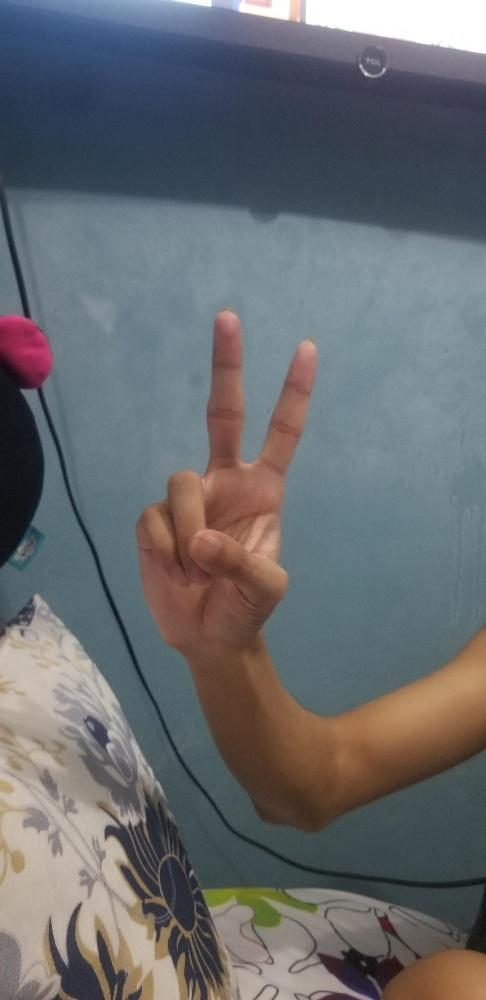v: (133, 304, 318, 660)
